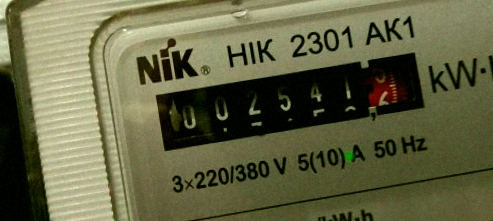0: (208, 89, 232, 124), (179, 100, 200, 131)
1: (334, 67, 355, 102)
2: (239, 83, 265, 120)
4: (304, 73, 325, 106)
5: (273, 80, 293, 114)
6: (373, 86, 392, 109)
screen: (138, 34, 448, 168)
